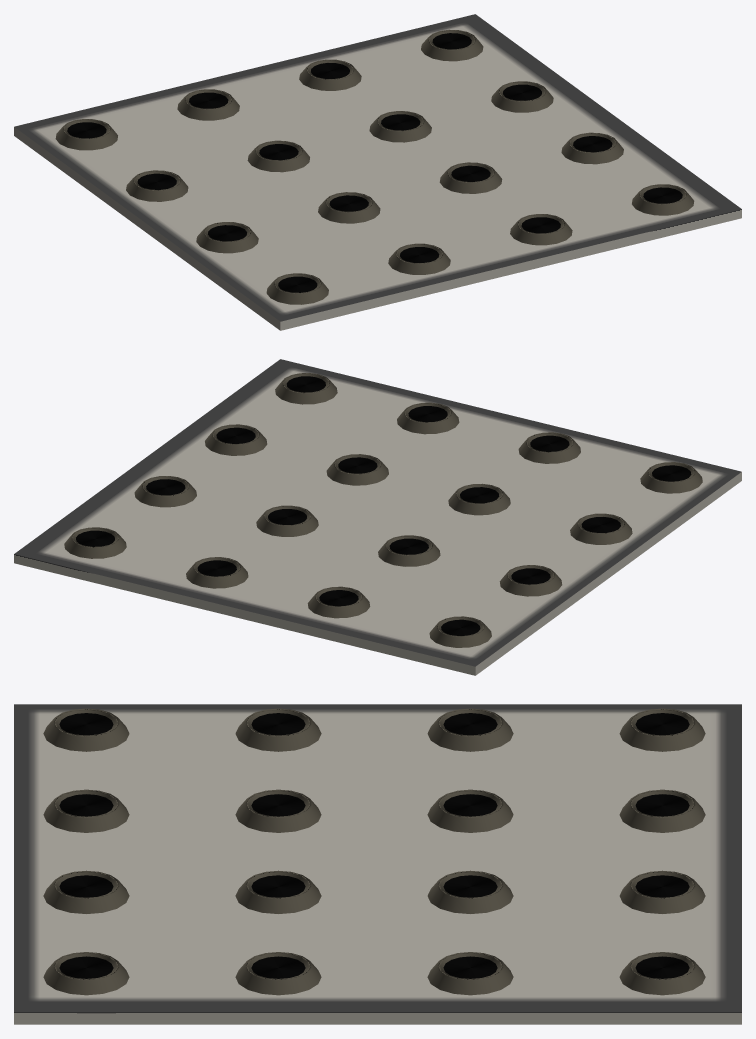
File: Trap Plane.fbx
The picture shows the model from 3 angles, top to bottom: view 1: azimuth 30°, elevation 25°; view 2: azimuth 150°, elevation 25°; view 3: azimuth 270°, elevation 25°; orthographic projection. The views are drawn at different scales.
Parts seen in each view (by area): view 1: Cube.001; view 2: Cube.001; view 3: Cube.001.
Part boxes in pixels (box(x1,y1,x2,y2)): Cube.001: box(14, 14, 741, 330); Cube.001: box(14, 359, 741, 675); Cube.001: box(14, 704, 741, 1024).
Bounding box in the file's own units: 200 × 7.06 × 200.
1 material, 1 textured.
